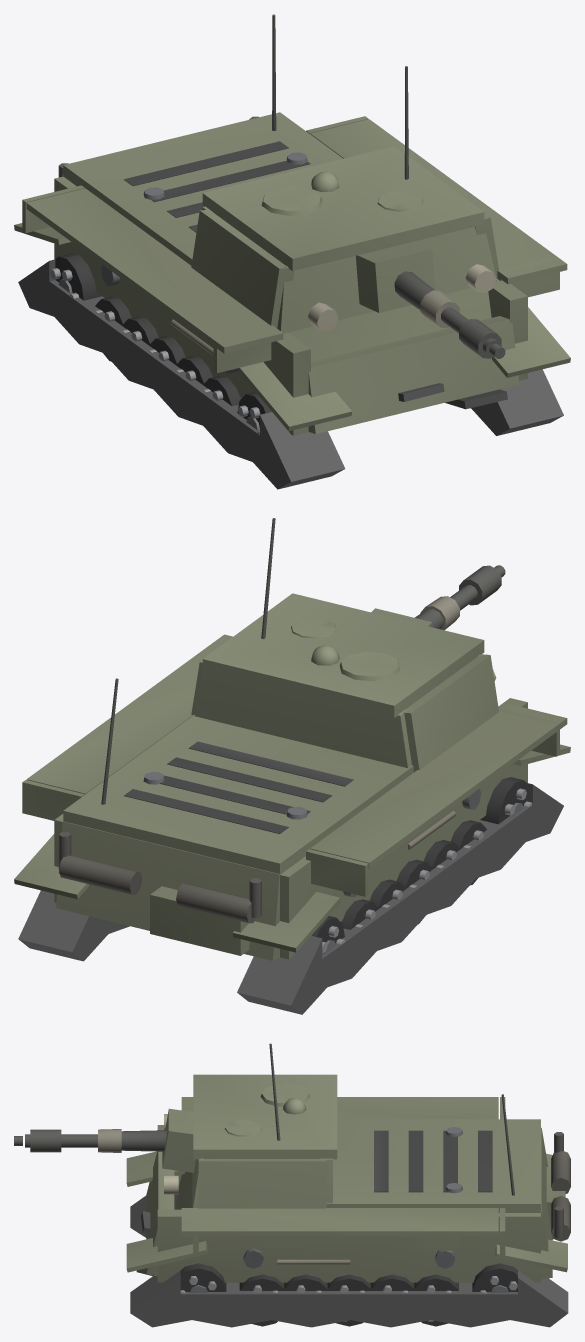
3 renders of one model, top to bottom at view 1: azimuth 30°, elevation 25°; view 2: azimuth 150°, elevation 25°; view 3: azimuth 270°, elevation 25°, orthographic. The views are drawn at different scales.
Parts seen in each view (by area): view 1: hullSide, tracks, turretRoof, hullTop, lowerPlate, mantlet, turretSide, glacis, barrel, wheel6, wheel5, wheel4 (+5 smaller); view 2: hullSide, hullTop, tracks, turretRoof, hullRear, turretSide, barrel, wheel5, wheel6, wheel0, wheel4, wheel2 (+2 smaller); view 3: hullSide, tracks, hullTop, turretRoof, turretSide, hullRear, barrel, mantlet, lowerPlate, wheel12, wheel13, glacis (+5 smaller).
Part boxes in pixels (<box>): hullSide: <box>22,116,567,435</box>; tracks: <box>14,223,570,489</box>; turretRoof: <box>202,66,484,271</box>; hullTop: <box>63,112,342,265</box>; lowerPlate: <box>308,316,519,433</box>; mantlet: <box>277,227,497,333</box>; turretSide: <box>191,206,498,328</box>; glacis: <box>288,288,507,409</box>; barrel: <box>394,271,505,358</box>; wheel6: <box>50,253,101,300</box>; wheel5: <box>237,392,271,434</box>; wheel4: <box>203,375,241,406</box>; hullSide: <box>22,634,567,959</box>; hullTop: <box>63,714,413,874</box>; tracks: <box>14,744,570,1014</box>; turretRoof: <box>202,518,484,718</box>; hullRear: <box>56,678,280,960</box>; turretSide: <box>191,654,498,772</box>; barrel: <box>415,565,505,630</box>; wheel5: <box>480,777,532,824</box>; wheel6: <box>311,916,345,953</box>; wheel0: <box>341,899,378,929</box>; wheel4: <box>450,820,486,885</box>; wheel2: <box>396,859,432,924</box>; hullSide: <box>157,1097,540,1282</box>; tracks: <box>126,1151,568,1327</box>; hullTop: <box>326,1119,540,1212</box>; turretRoof: <box>193,1043,337,1159</box>; turretSide: <box>198,1158,332,1208</box>; hullRear: <box>501,1094,570,1279</box>; barrel: <box>14,1129,166,1152</box>; mantlet: <box>162,1108,203,1207</box>; lowerPlate: <box>146,1151,174,1276</box>; wheel12: <box>180,1263,226,1294</box>; wheel13: <box>472,1263,517,1294</box>; glacis: <box>136,1171,192,1276</box>.
Size of the model in its own units: 3.48 by 3.13 by 6.11.
